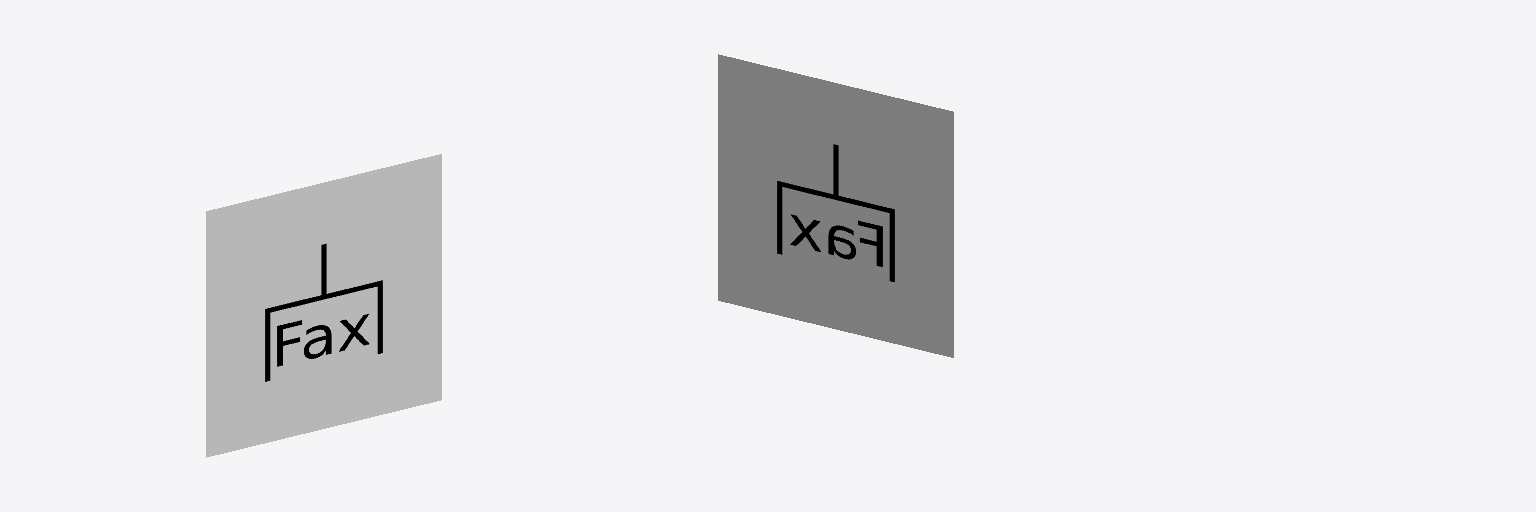
3 renders of one model, left to right at view 1: azimuth 30°, elevation 25°; view 2: azimuth 150°, elevation 25°; view 3: azimuth 270°, elevation 25°, orthographic.
Visible parts, largest first — view 1: Mesh; view 2: Mesh; view 3: none.
Part boxes in pixels (left/top/right/bottom): Mesh: left=206, top=154, right=441, bottom=457; Mesh: left=718, top=54, right=953, bottom=357.
Bounding box in the file's own units: 50 × 50 × 50.
Materials: 2 (2 with a texture image).